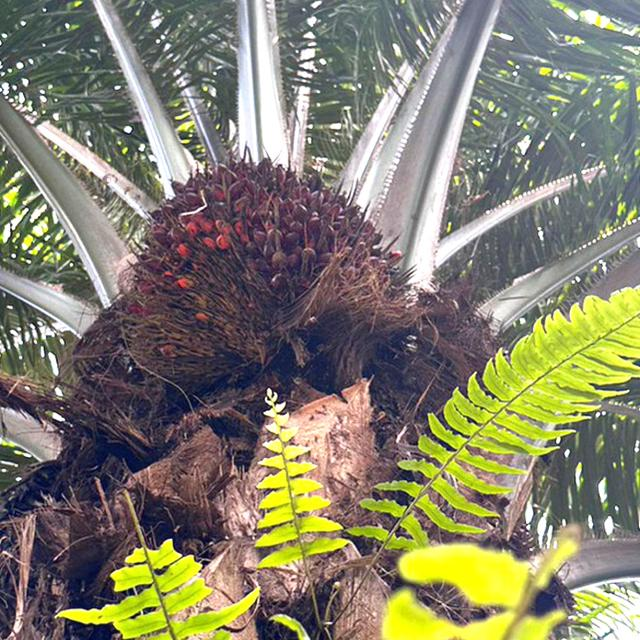ripe: (105, 136, 416, 372)
